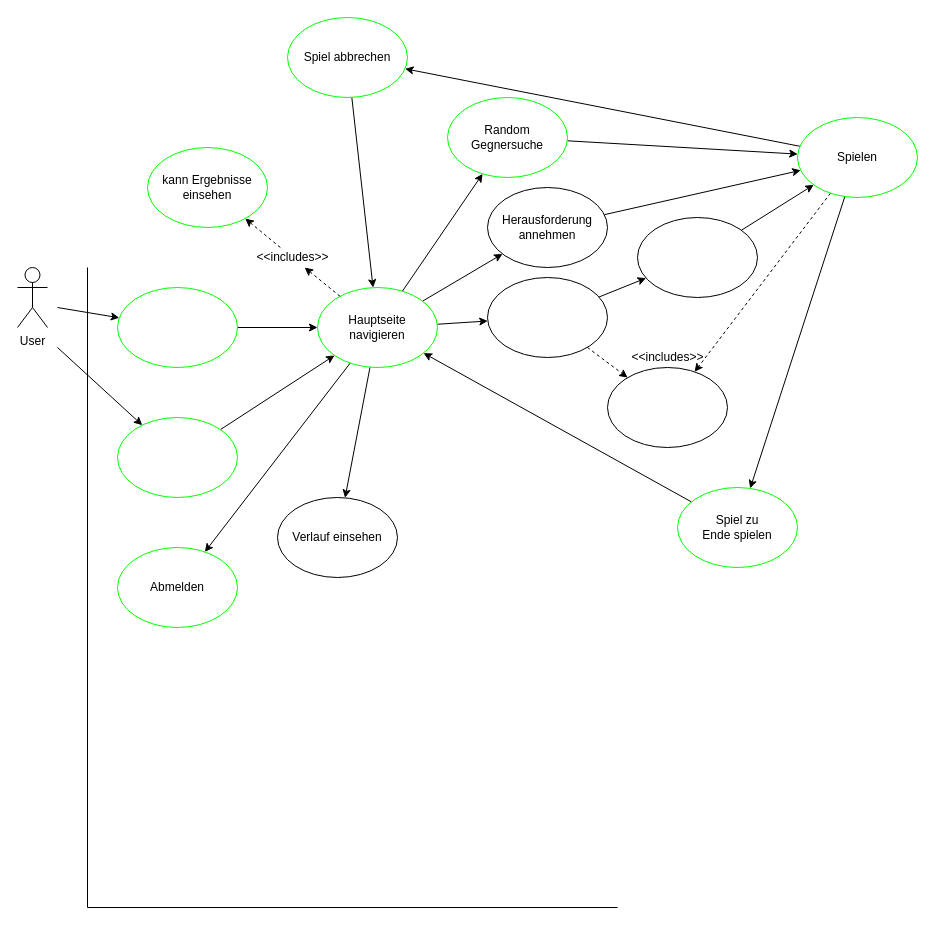
Image size: 935x926. Some labels were removed from this diagram. Each missing label, with the box of its shape:
Account erstellen: (116, 286, 238, 368)
Chatten: (606, 366, 728, 448)
Herausfordern: (636, 216, 758, 298)
Login eintippen: (116, 416, 238, 498)
manuelle Gegnersuche: (486, 276, 608, 358)
